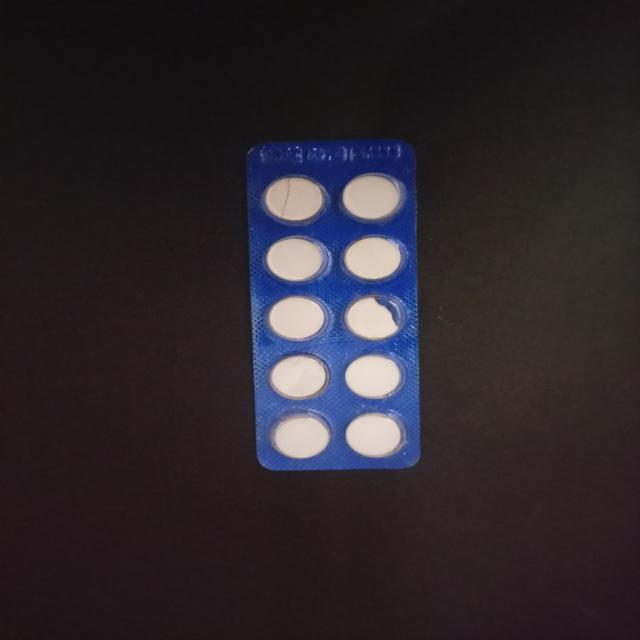defect: (259, 172, 330, 228), (342, 290, 408, 342)
